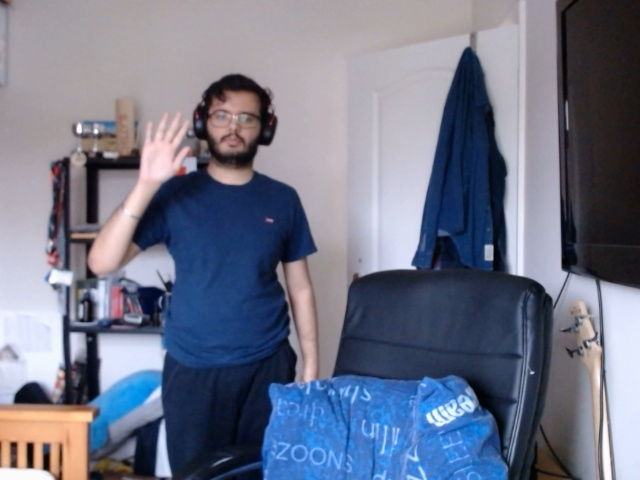Hello: (132, 106, 200, 185)
